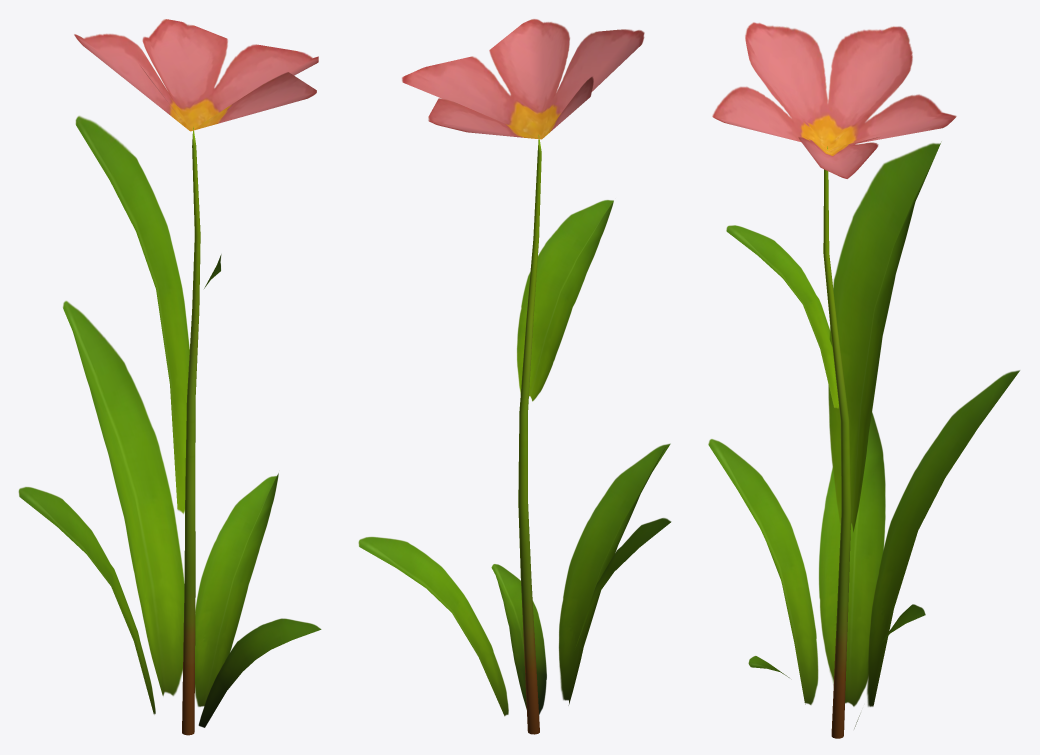
The model's file is flower-single-transformed.glb.
3 renders of one model, left to right at view 1: azimuth 30°, elevation 25°; view 2: azimuth 150°, elevation 25°; view 3: azimuth 270°, elevation 25°, orthographic. The views are drawn at different scales.
Parts seen in each view (by area): view 1: Flower_3_Single; view 2: Flower_3_Single; view 3: Flower_3_Single.
Part boxes in pixels (x1=…): Flower_3_Single: x1=18, y1=19, x2=321, y2=735; Flower_3_Single: x1=358, y1=19, x2=671, y2=734; Flower_3_Single: x1=708, y1=22, x2=1019, y2=738.
Bounding box in the file's own units: 0.9066 × 2.07 × 0.8775.
Materials: 2 (2 with a texture image).
